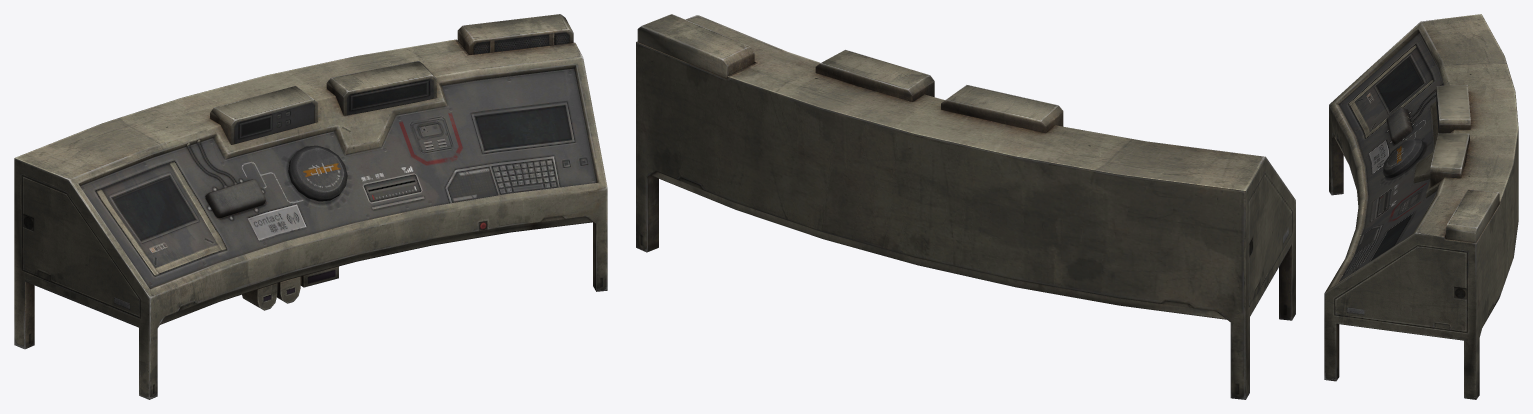
The model's file is communication_table_pplant.dae.
3 views of the same model, side by side, from view 1: azimuth 30°, elevation 25°; view 2: azimuth 150°, elevation 25°; view 3: azimuth 270°, elevation 25° (orthographic). The views are drawn at different scales.
Parts seen in each view (by area): view 1: computer_communication_table; view 2: computer_communication_table; view 3: computer_communication_table.
Part boxes in pixels (x1=…): computer_communication_table: x1=14, y1=14, x2=607, y2=399; computer_communication_table: x1=636, y1=14, x2=1295, y2=399; computer_communication_table: x1=1324, y1=14, x2=1518, y2=399.
Size of the model in its own units: 4.23 by 1.47 by 1.53.
